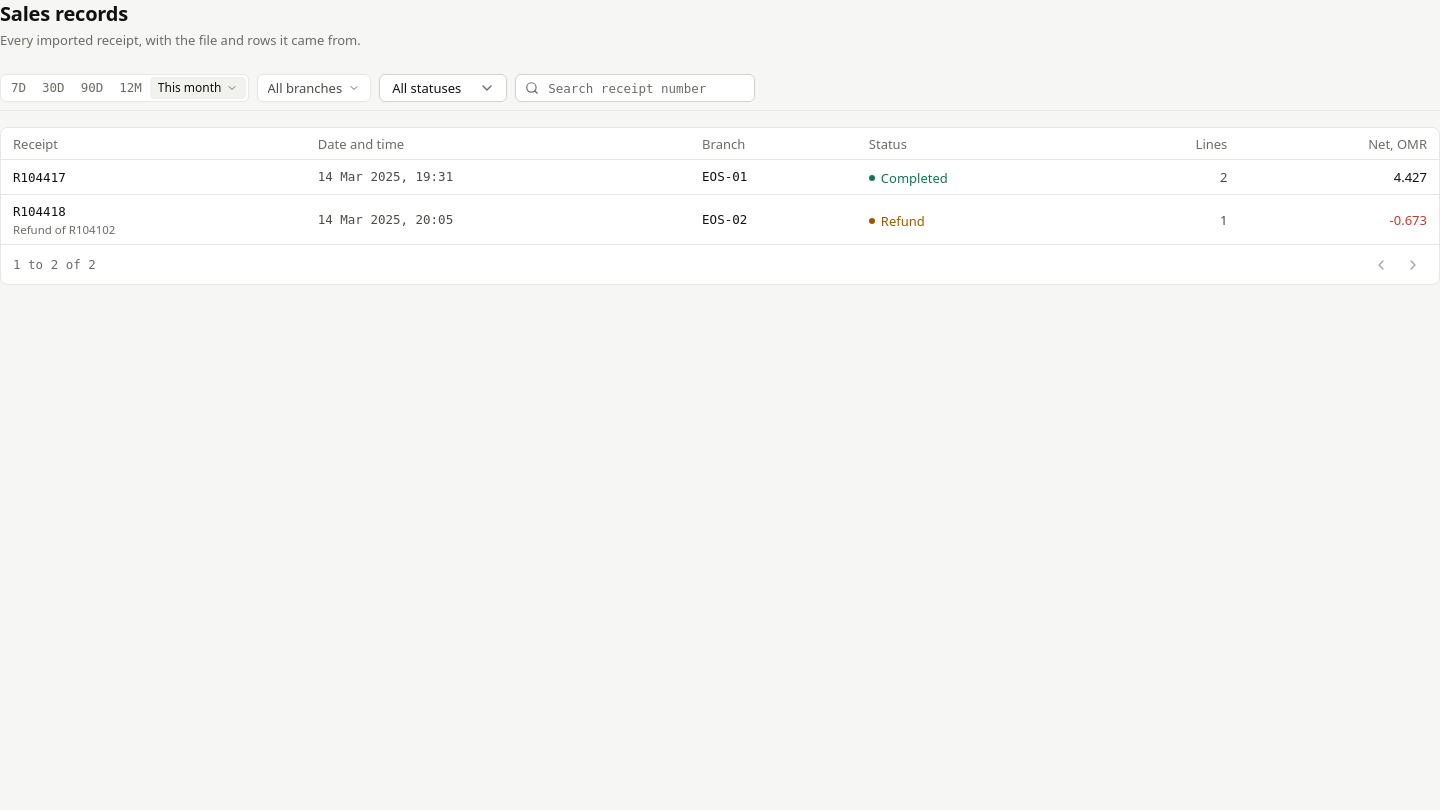
Test: sales records › opens a receipt sheet with its lines and source rows
This screenshot has width=1440, height=810.
Check: the text "Refund of R104102" is shown, box x1=13 y1=222 x2=115 y2=237
Click the button named "Open receipt R104417".
click(39, 178)  # box x1=13 y1=168 x2=66 y2=188
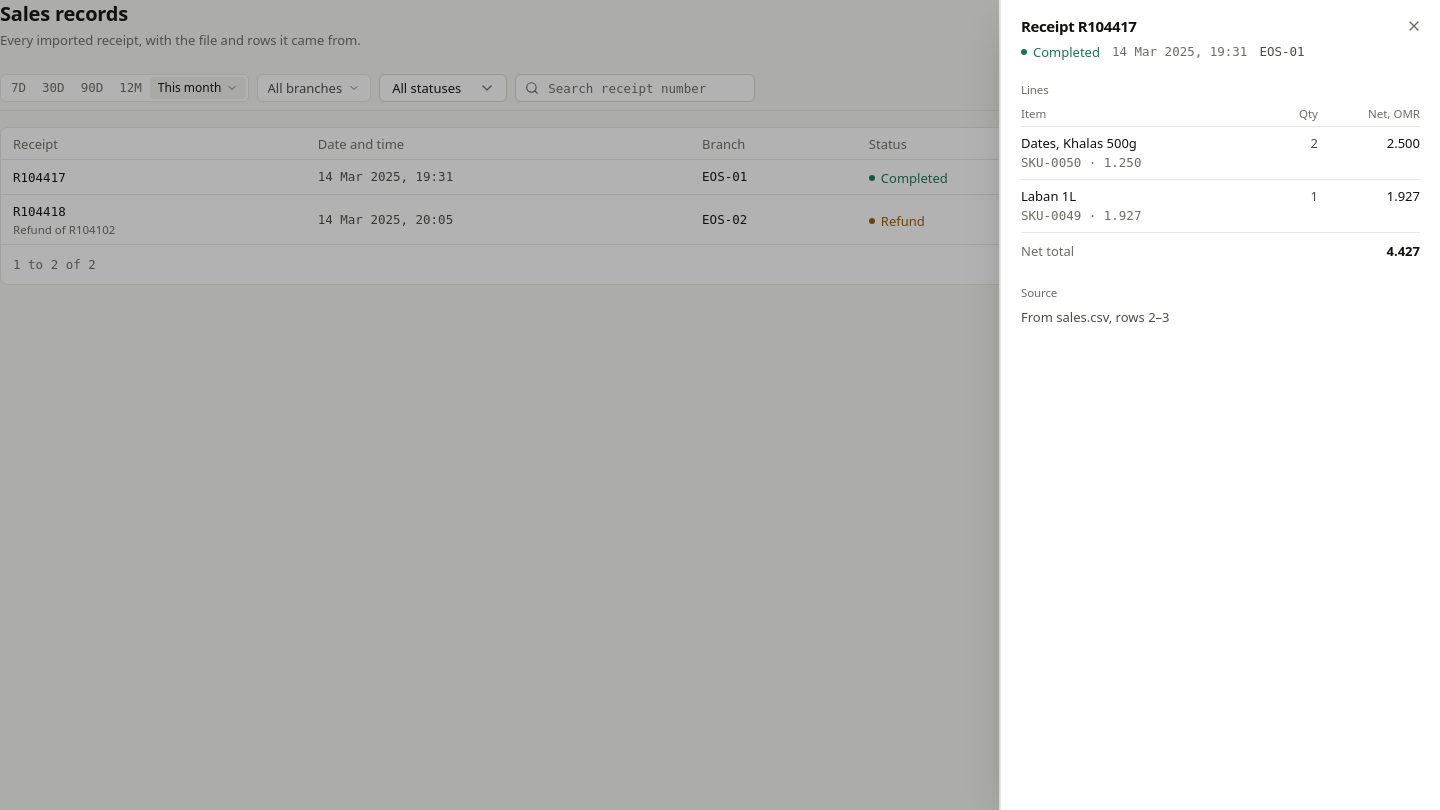
Check: the text "Dates, Khalas 500g" is shown, box x1=1021 y1=134 x2=1137 y2=152
Check: the text with test id "sale-source" reads "From sales.csv, rows 2–3", box x1=1021 y1=308 x2=1170 y2=326
Check: the text "4.427" is shown, box x1=1318 y1=232 x2=1420 y2=261
